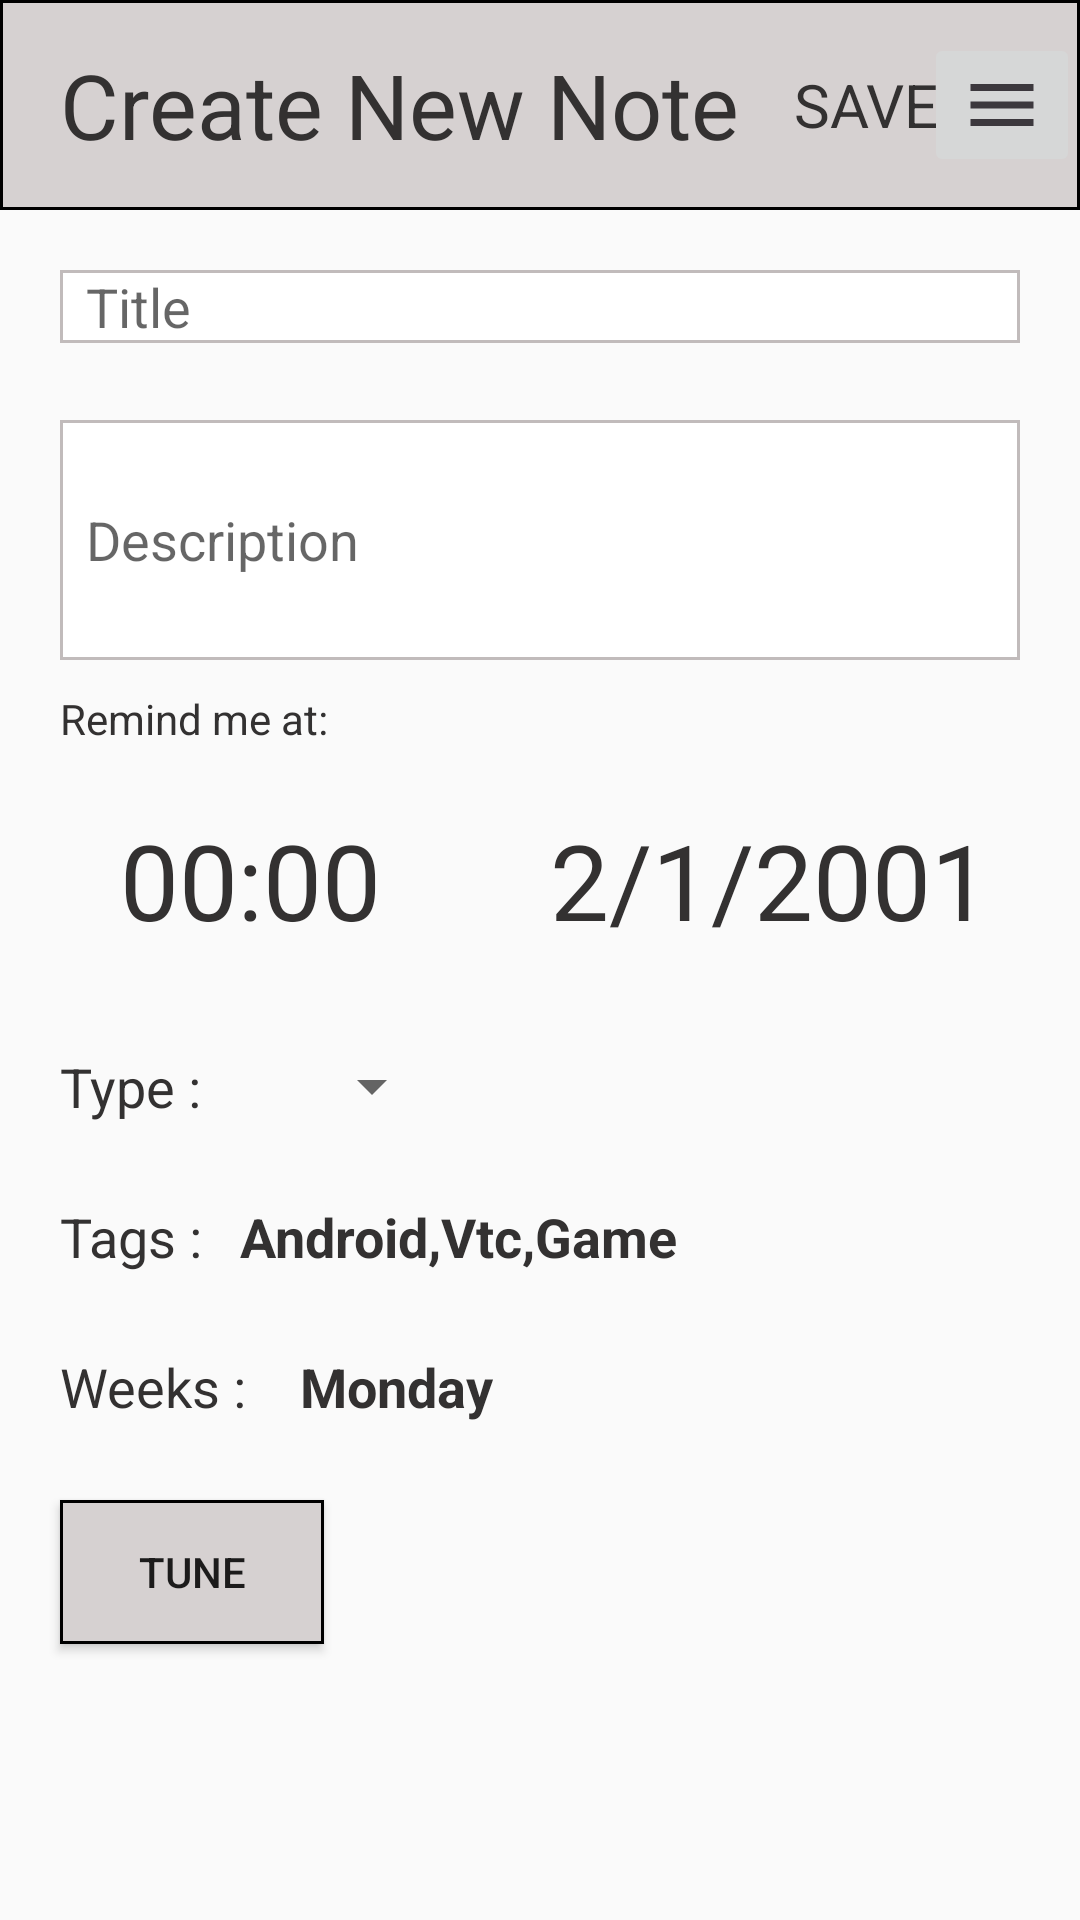

Icon bounding boxes for this 1080×1920 phone screenshot, format (x1, y1, x2, y2):
menu: (970, 84, 1034, 126)
